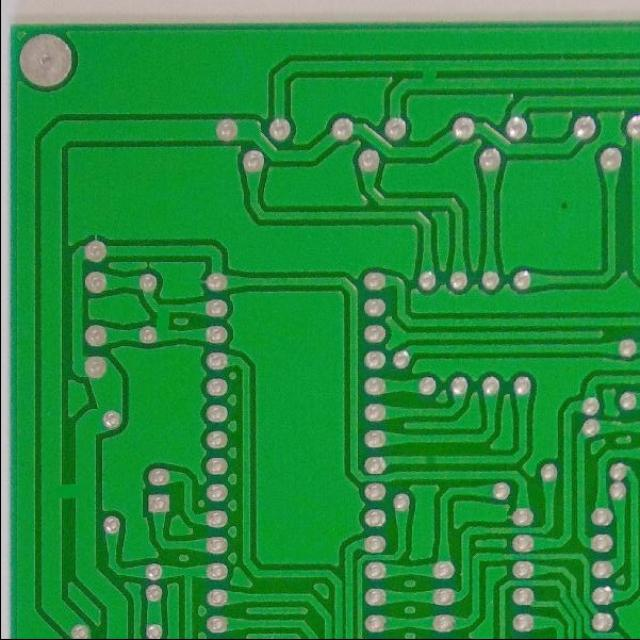Short_Circuit: (34, 468, 102, 516), (410, 53, 448, 94), (148, 299, 179, 345)
